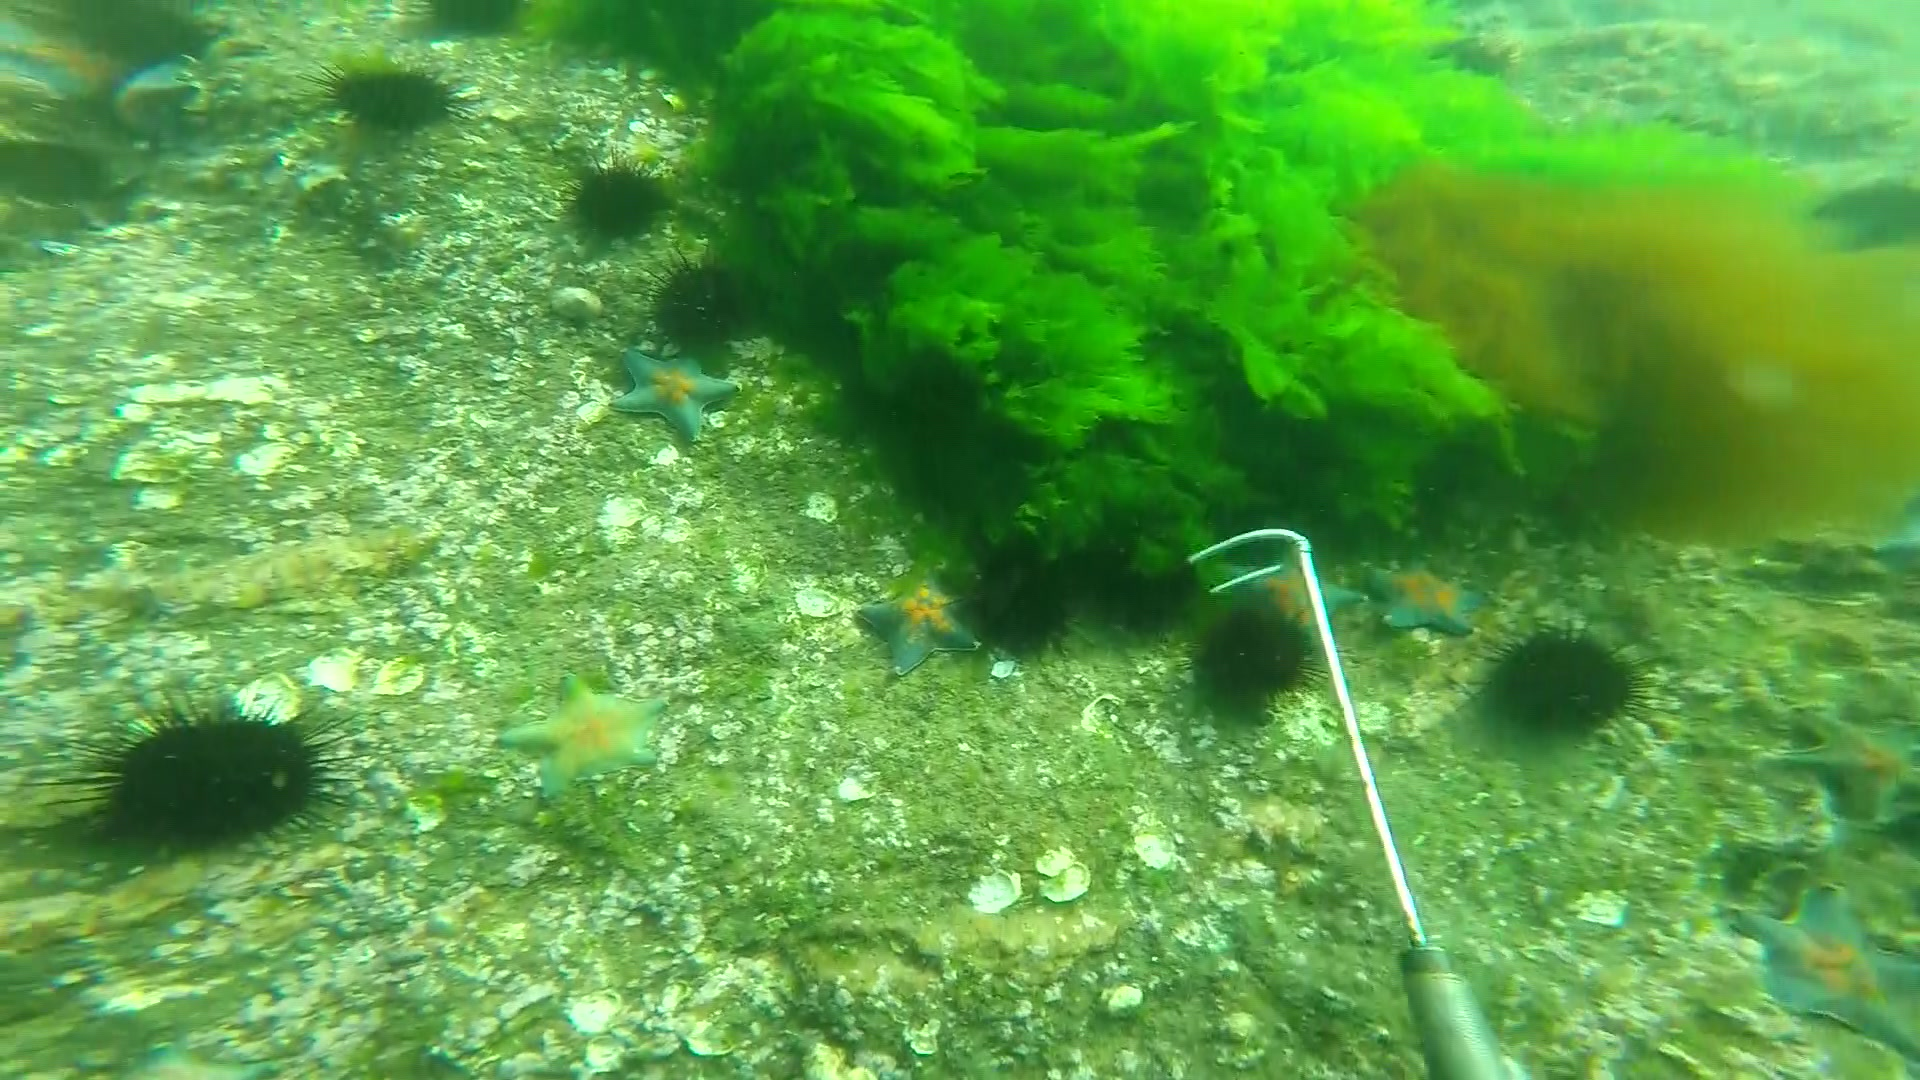echinus: (51, 698, 367, 858), (1487, 618, 1639, 737), (1195, 595, 1317, 716), (956, 546, 1083, 655), (640, 255, 766, 359), (327, 59, 469, 138), (560, 152, 675, 240)
starfish: (1731, 872, 1920, 1063), (493, 675, 671, 798), (1768, 690, 1920, 819), (1220, 534, 1365, 651), (608, 338, 745, 439), (857, 564, 981, 675), (1371, 549, 1478, 645)
